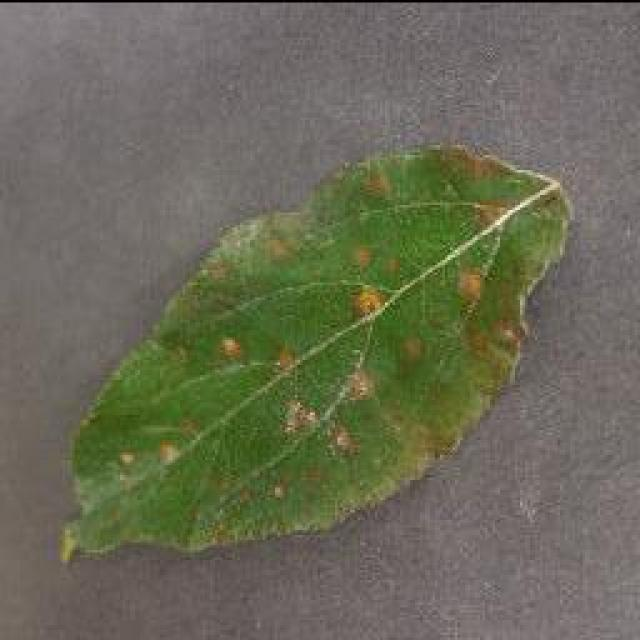apple rust disease: (58, 138, 570, 562)
